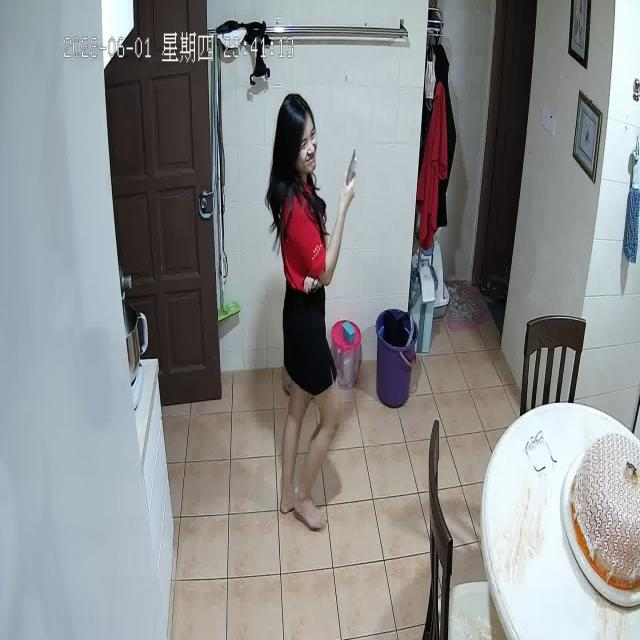Head: (275, 92, 318, 176)
